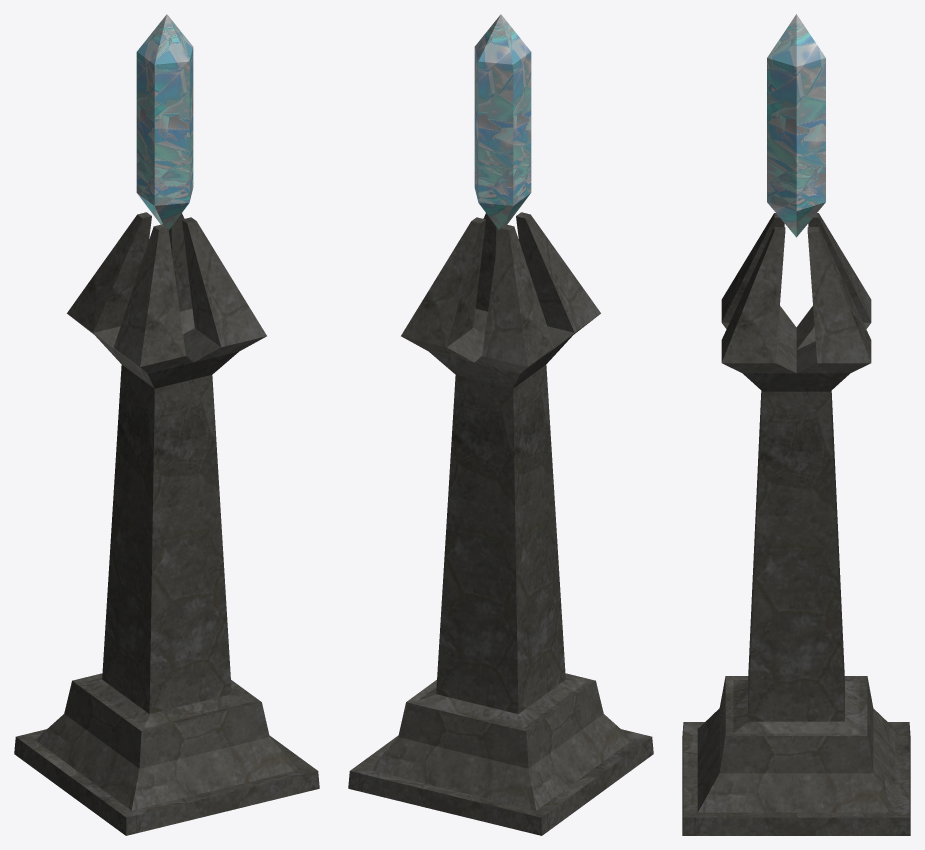
File: PillarWCrystal.fbx
3 views of the same model, side by side, from view 1: azimuth 30°, elevation 25°; view 2: azimuth 150°, elevation 25°; view 3: azimuth 270°, elevation 25° (orthographic). The views are drawn at different scales.
Parts seen in each view (by area): view 1: Pillar, Crystal; view 2: Pillar, Crystal; view 3: Pillar, Crystal.
Part boxes in pixels (x1,y1,x2,y2): Pillar: (14, 212, 319, 835); Crystal: (136, 14, 193, 229); Pillar: (348, 212, 653, 835); Crystal: (474, 14, 531, 229); Pillar: (682, 213, 910, 835); Crystal: (767, 14, 825, 237).
Bounding box in the file's own units: 330 × 1233 × 330.
2 materials, 2 textured.
